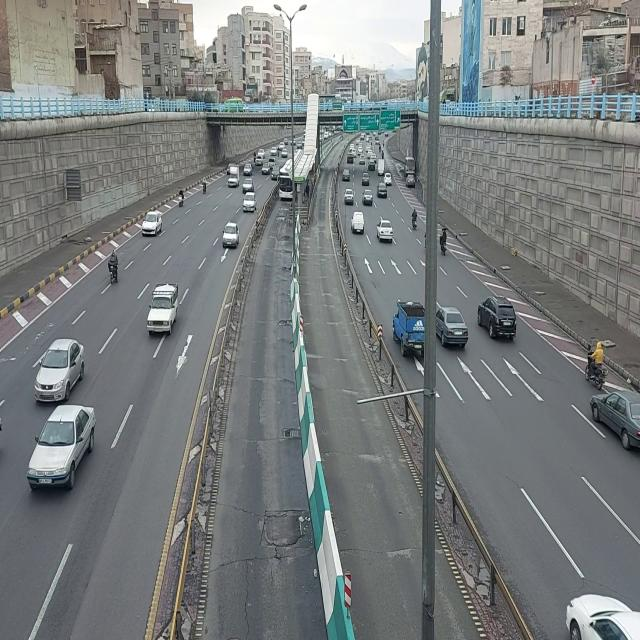Bus: (278, 158, 292, 200)
Car: (26, 404, 97, 492), (563, 586, 639, 640), (34, 337, 85, 405), (589, 388, 640, 452), (477, 295, 518, 342), (146, 282, 180, 336), (437, 306, 469, 348), (376, 217, 398, 247), (141, 210, 163, 238), (221, 220, 240, 250), (242, 190, 258, 213), (242, 178, 255, 195), (362, 189, 373, 206), (344, 188, 354, 206), (377, 182, 388, 198), (271, 164, 280, 182), (405, 174, 416, 188), (243, 162, 253, 177), (262, 160, 271, 176), (362, 172, 371, 186), (255, 154, 264, 167), (383, 173, 392, 186), (342, 169, 351, 182), (268, 156, 277, 168), (346, 152, 354, 164), (368, 160, 375, 172), (359, 154, 366, 166), (258, 148, 266, 158), (270, 146, 277, 157), (370, 153, 377, 162), (282, 148, 288, 158), (357, 147, 364, 155), (352, 149, 357, 157), (384, 131, 390, 137), (367, 149, 370, 160), (350, 144, 354, 152)
Motorcycle: (584, 342, 608, 392), (108, 249, 120, 286), (439, 227, 448, 257), (411, 208, 418, 231), (178, 188, 185, 208), (202, 176, 208, 195), (378, 143, 382, 154), (253, 150, 256, 162), (277, 146, 280, 157), (383, 138, 385, 148), (382, 150, 384, 160)
Pickup: (392, 299, 424, 357), (350, 210, 366, 236), (227, 166, 241, 189), (378, 158, 385, 178)
